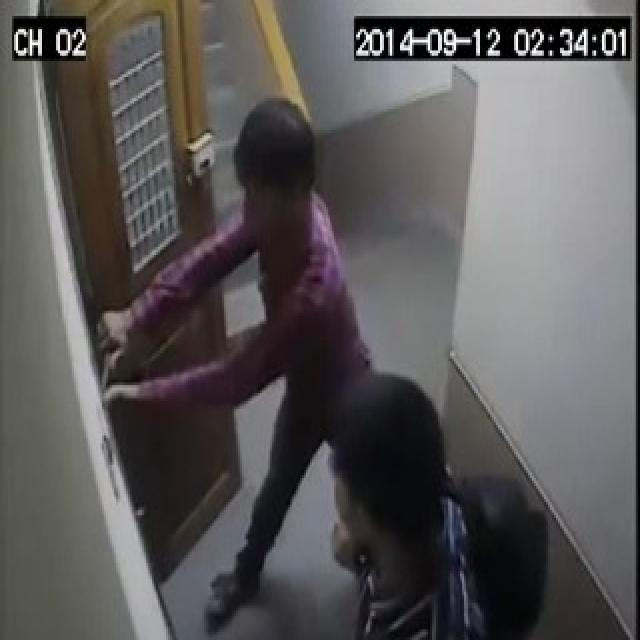thief: (69, 92, 496, 640)
